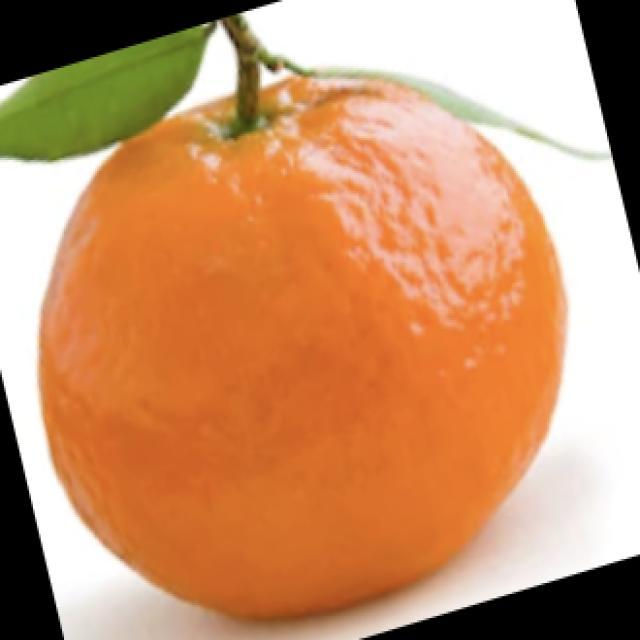matang: (39, 78, 564, 617)
